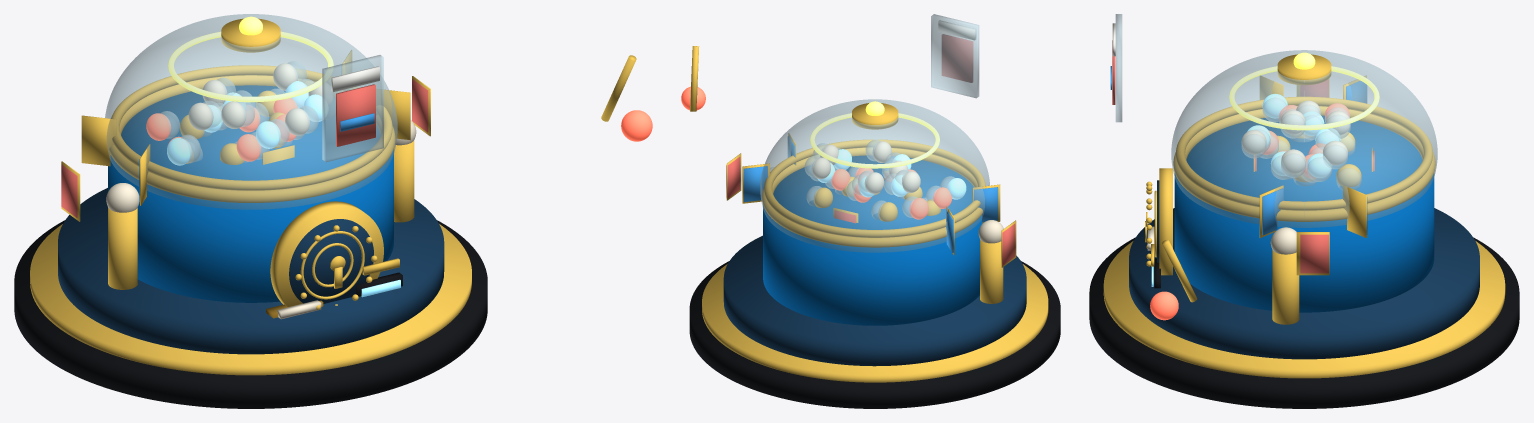
Rendered from vault-gacha-machine.glb.
The picture shows the model from 3 angles, left to right: view 1: azimuth 30°, elevation 25°; view 2: azimuth 150°, elevation 25°; view 3: azimuth 270°, elevation 25°; orthographic projection. The views are drawn at different scales.
Parts seen in each view (by area): view 1: glass_dome, body_blue_enamel, base_navy_steps, base_shadow_plinth, base_gold_outer_ring, spin_ring, body_gold_lip_upper_open_ring, front_vault_door_navy, front_vault_door_gold, reveal_slab_clear_case, side_column_-1_gold, dome_inner_light_ring (+12 smaller); view 2: glass_dome, body_blue_enamel, base_navy_steps, base_shadow_plinth, base_gold_outer_ring, spin_ring, reveal_slab_clear_case, body_gold_lip_upper_open_ring, side_column_-1_gold, reveal_slab_card_art, dome_inner_light_ring, dome_crown_cap (+8 smaller); view 3: glass_dome, body_blue_enamel, base_navy_steps, base_shadow_plinth, base_gold_outer_ring, spin_ring, body_gold_lip_upper_open_ring, side_column_1_gold, dome_inner_light_ring, front_vault_door_gold, dome_crown_cap, orbit_card_00 (+20 smaller).
Boxes of the visible parts, x1,y1,x2,y2 form: glass_dome: (105,14,397,209); body_blue_enamel: (108,85,393,302); base_navy_steps: (58,188,444,354); base_shadow_plinth: (14,220,487,408); base_gold_outer_ring: (30,224,471,375); spin_ring: (111,65,392,190); body_gold_lip_upper_open_ring: (109,75,395,202); front_vault_door_navy: (289,219,373,303); front_vault_door_gold: (270,201,383,306); reveal_slab_clear_case: (322,55,383,162); side_column_-1_gold: (108,207,137,289); dome_inner_light_ring: (168,31,333,102); glass_dome: (760,99,989,252); body_blue_enamel: (763,155,982,325); base_navy_steps: (723,235,1026,366); base_shadow_plinth: (689,261,1060,408); base_gold_outer_ring: (702,264,1048,382); spin_ring: (764,139,985,237); reveal_slab_clear_case: (931,14,979,98); body_gold_lip_upper_open_ring: (762,147,982,247); side_column_-1_gold: (980,239,1003,303); reveal_slab_card_art: (942,34,972,82); dome_inner_light_ring: (810,113,939,168); dome_crown_cap: (852,103,898,129); glass_dome: (1171,50,1437,227); body_blue_enamel: (1174,115,1434,312); base_navy_steps: (1129,208,1479,359); base_shadow_plinth: (1089,237,1519,408); base_gold_outer_ring: (1103,241,1505,378); spin_ring: (1176,96,1432,210); body_gold_lip_upper_open_ring: (1173,106,1435,221); side_column_1_gold: (1272,250,1299,324); dome_inner_light_ring: (1229,66,1379,130); front_vault_door_gold: (1159,168,1172,275); dome_crown_cap: (1277,54,1331,85); orbit_card_00: (1300,234,1328,273).
Bounding box in the file's own units: 6.56 × 3.81 × 5.1.
